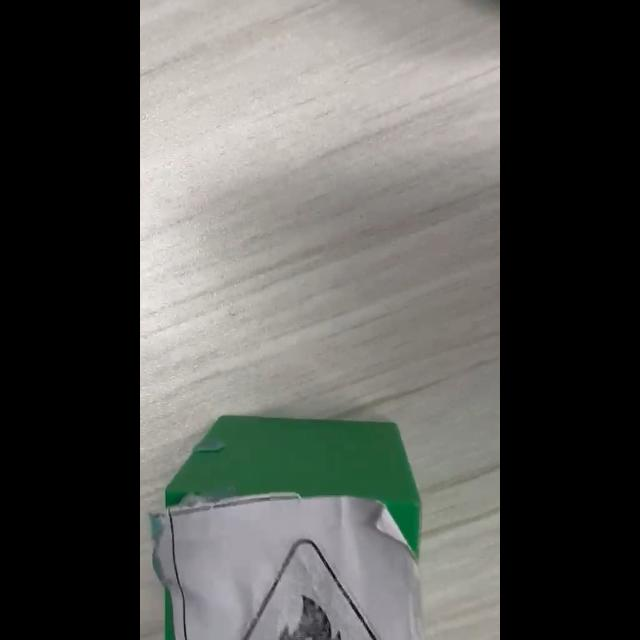Fire: (252, 539, 381, 639)
